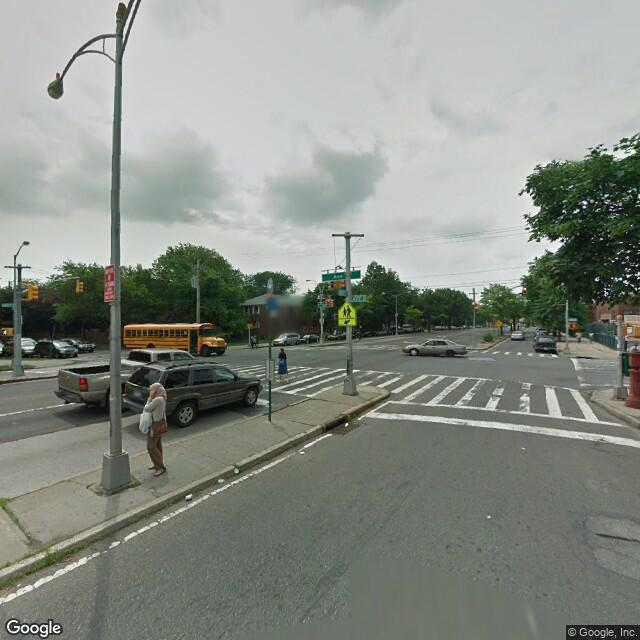litter: (179, 476, 233, 504)
